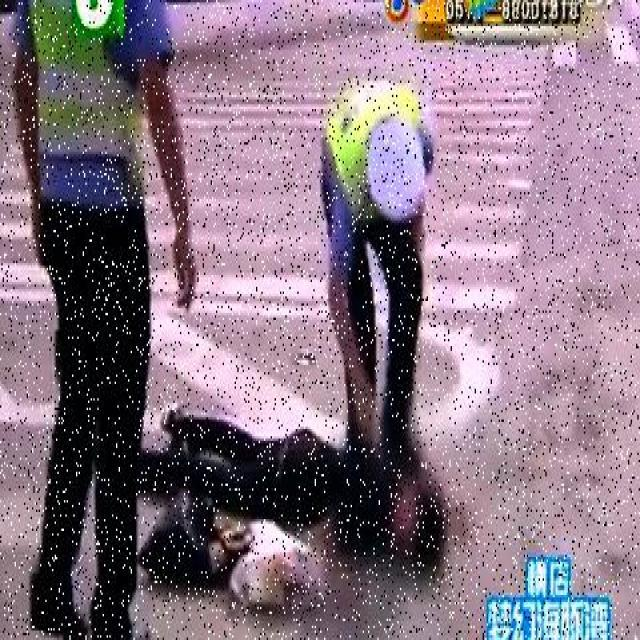fall: (167, 410, 440, 554)
